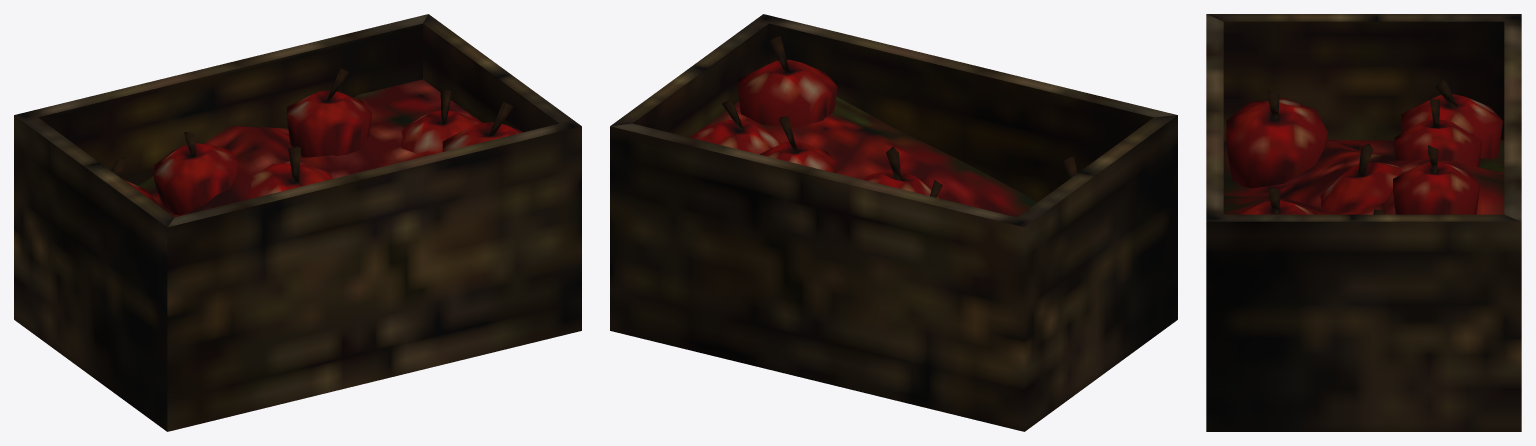
Rendered from b_general_obj_22_01.glb.
3 views of the same model, side by side, from view 1: azimuth 30°, elevation 25°; view 2: azimuth 150°, elevation 25°; view 3: azimuth 270°, elevation 25° (orthographic). The views are drawn at different scales.
Parts seen in each view (by area): view 1: Sphere01; view 2: Sphere01; view 3: Sphere01.
Boxes of the visible parts, x1,y1,x2,y2 form: Sphere01: (14, 14, 581, 431); Sphere01: (610, 14, 1177, 431); Sphere01: (1206, 14, 1521, 431).
Size of the model in its own units: 1.06 by 0.5309 by 0.6822.
Materials: 1 (1 with a texture image).
